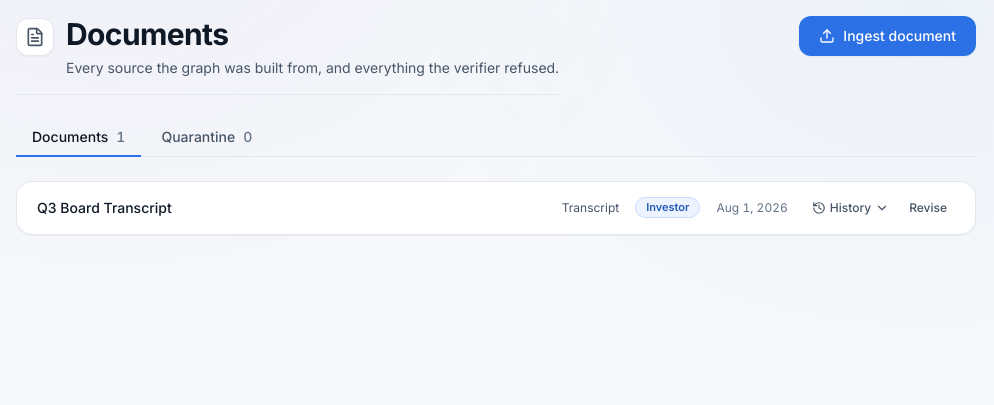
Test: the version chain › discloses a withheld revision as a count and nothing else
expect the text "Q3 Board Transcript" is shown: met, box [37,198,172,216]
Click the button "History" at (850, 208), box [804,196,897,220]
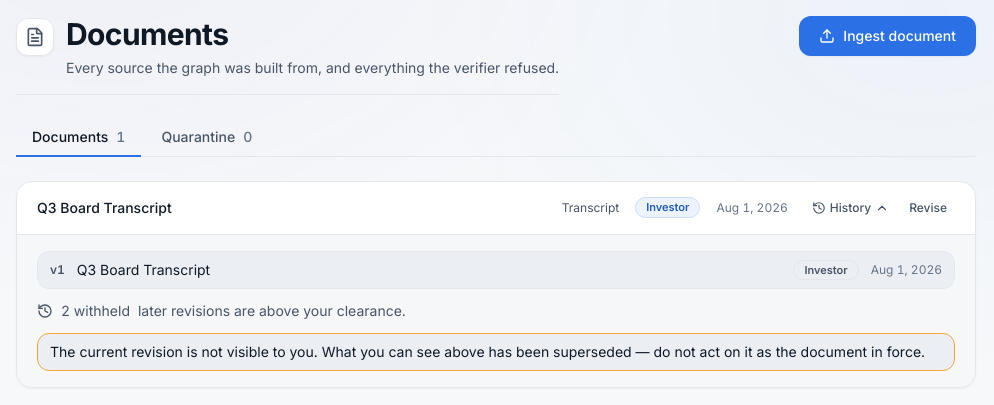
expect the text "2 withheld" is shown: met, box [61,301,130,321]
expect the text "later revisions are above your clearance." is shown: met, box [138,301,406,321]
